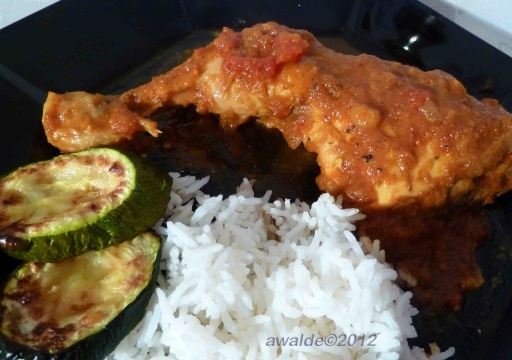background: (0, 12, 410, 202)
